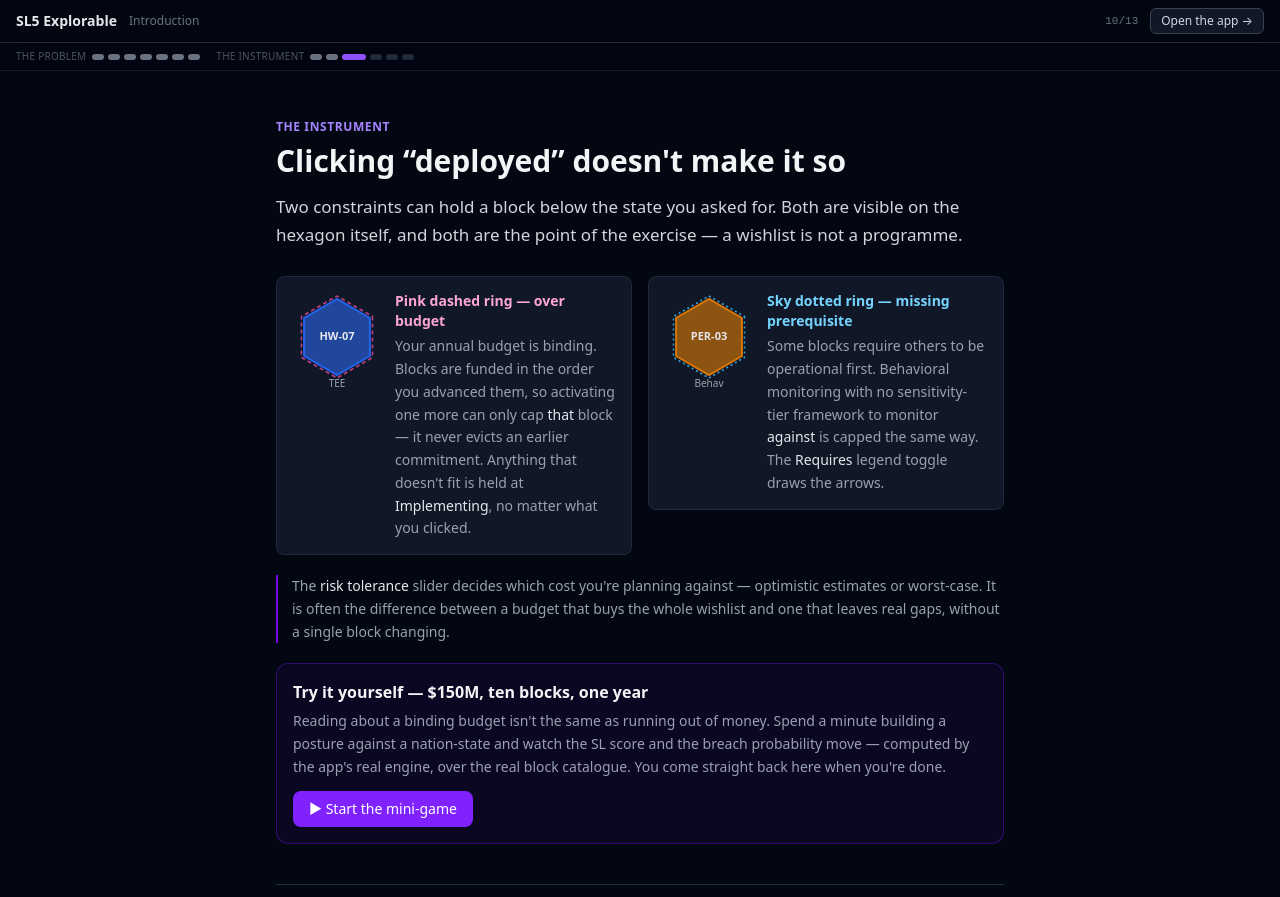
Scenario: the mini-game is an optional detour › returns to the slide it was opened from
This screenshot has width=1280, height=897.
Click the button "▶ Start the mini-game" at (383, 808), box [293,790,473,826]
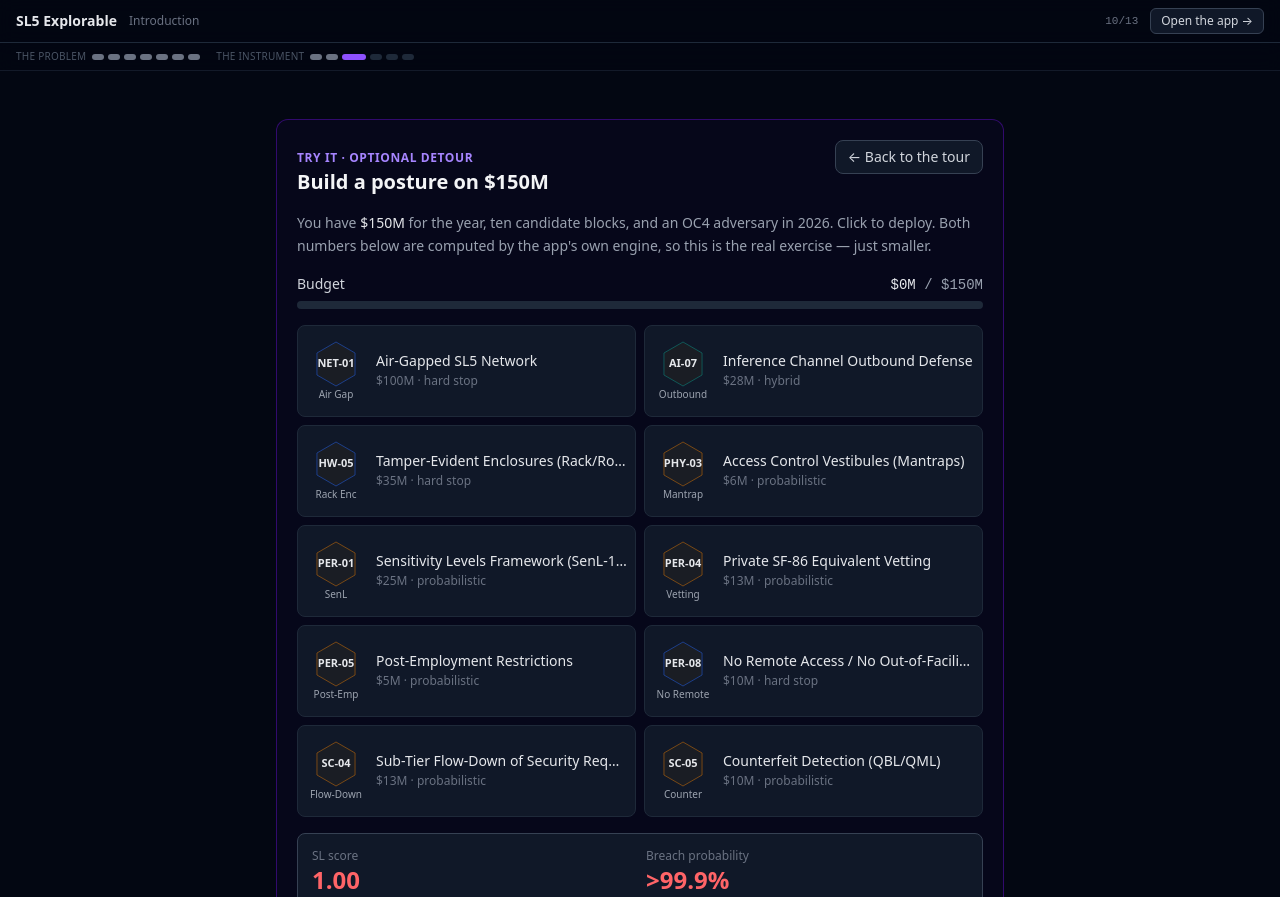
Check: the text "Budget" is shown, box [297,274,345,294]
Click the button "← Back to the tour" at (909, 157), box [835,140,983,174]
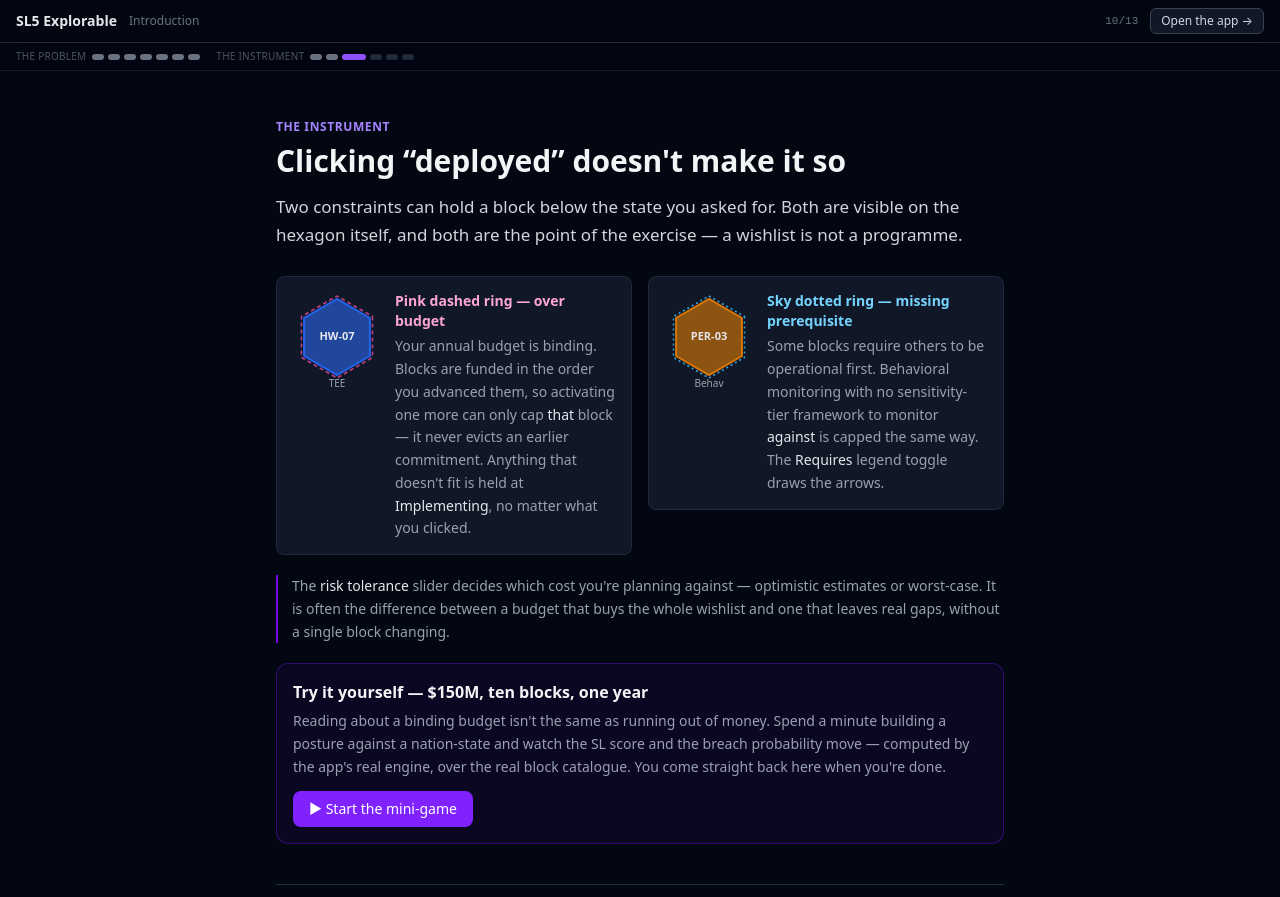
Check: the button "▶ Start the mini-game" is shown, box [293,790,473,826]
Check: the heading "Pink dashed ring — over budget" is shown, box [395,291,565,330]
